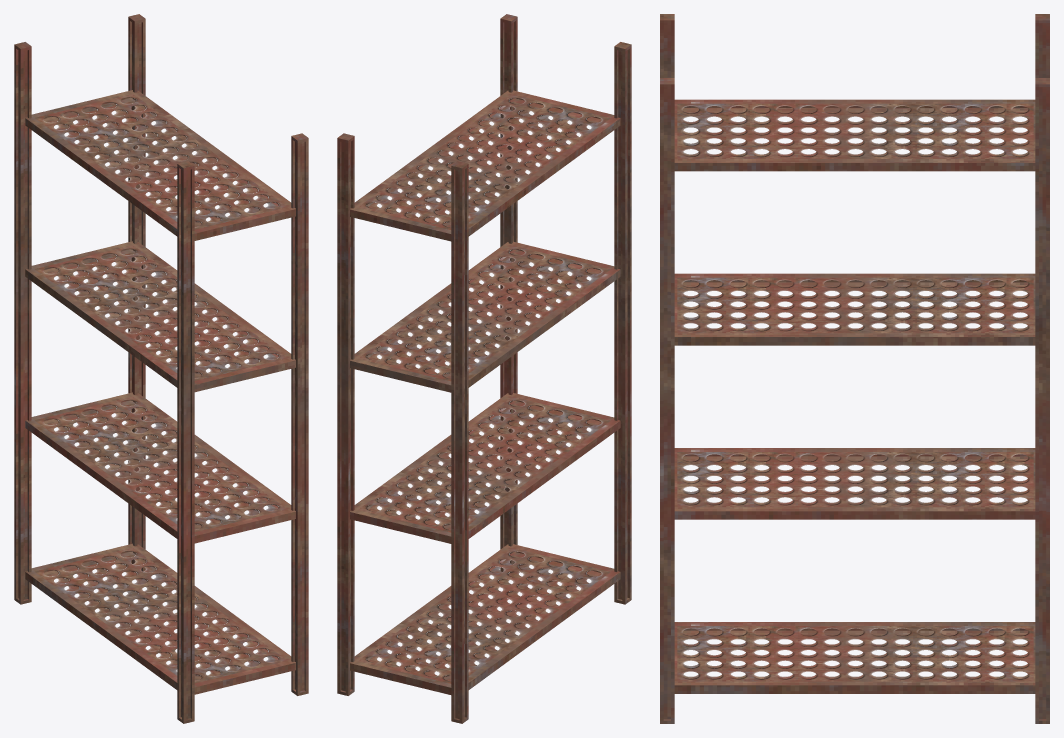
The model's file is _MetalShelves_1.FBX.
3 views of the same model, side by side, from view 1: azimuth 30°, elevation 25°; view 2: azimuth 150°, elevation 25°; view 3: azimuth 270°, elevation 25° (orthographic). The views are drawn at different scales.
Visible parts, largest first — view 1: _MetalShelves_1; view 2: _MetalShelves_1; view 3: _MetalShelves_1.
Part boxes in pixels (left/top/right/bottom): _MetalShelves_1: left=14, top=14, right=308, bottom=723; _MetalShelves_1: left=337, top=14, right=631, bottom=723; _MetalShelves_1: left=660, top=14, right=1049, bottom=723.
Size of the model in its own units: 44.27 by 188 by 104.
2 materials, 2 textured.
